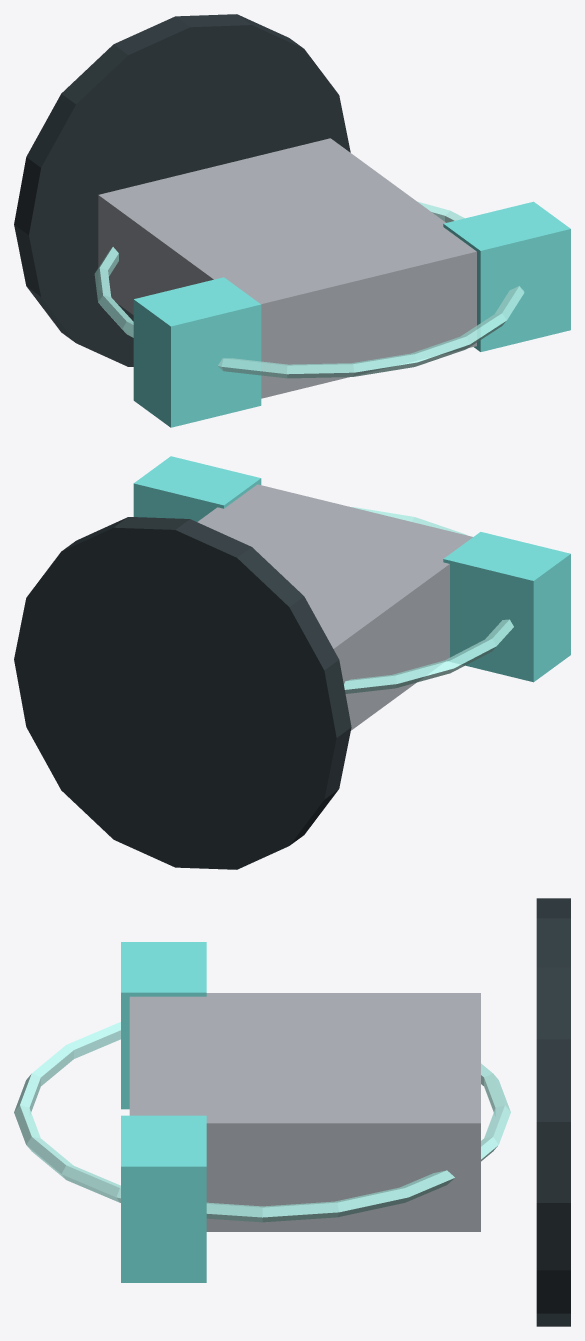
The model's file is 04_high_tier_magic_armor.glb.
The picture shows the model from 3 angles, top to bottom: view 1: azimuth 30°, elevation 25°; view 2: azimuth 150°, elevation 25°; view 3: azimuth 270°, elevation 25°; orthographic projection. The views are drawn at different scales.
Visible parts, largest first — view 1: chest_plate, armor_display_base, pauldron_l, pauldron_r, armor_barrier_ring; view 2: armor_display_base, chest_plate, pauldron_l, pauldron_r, armor_barrier_ring; view 3: chest_plate, armor_display_base, pauldron_r, armor_barrier_ring, pauldron_l.
Part boxes in pixels (x1,y1,x2,y2): chest_plate: (98,138,476,398); armor_display_base: (14,14,350,366); pauldron_l: (133,277,261,427); pauldron_r: (443,201,570,351); armor_barrier_ring: (94,202,524,378); armor_display_base: (14,517,351,869); chest_plate: (197,484,472,730); pauldron_l: (443,532,570,682); pauldron_r: (133,456,261,521); armor_barrier_ring: (344,507,513,693); chest_plate: (129,993,480,1231); armor_display_base: (536,898,570,1326); pauldron_r: (121,1115,206,1282); armor_barrier_ring: (14,1022,510,1222); pauldron_l: (121,942,206,1109).
Bounding box in the file's own units: 1.24 × 1 × 1.3.
